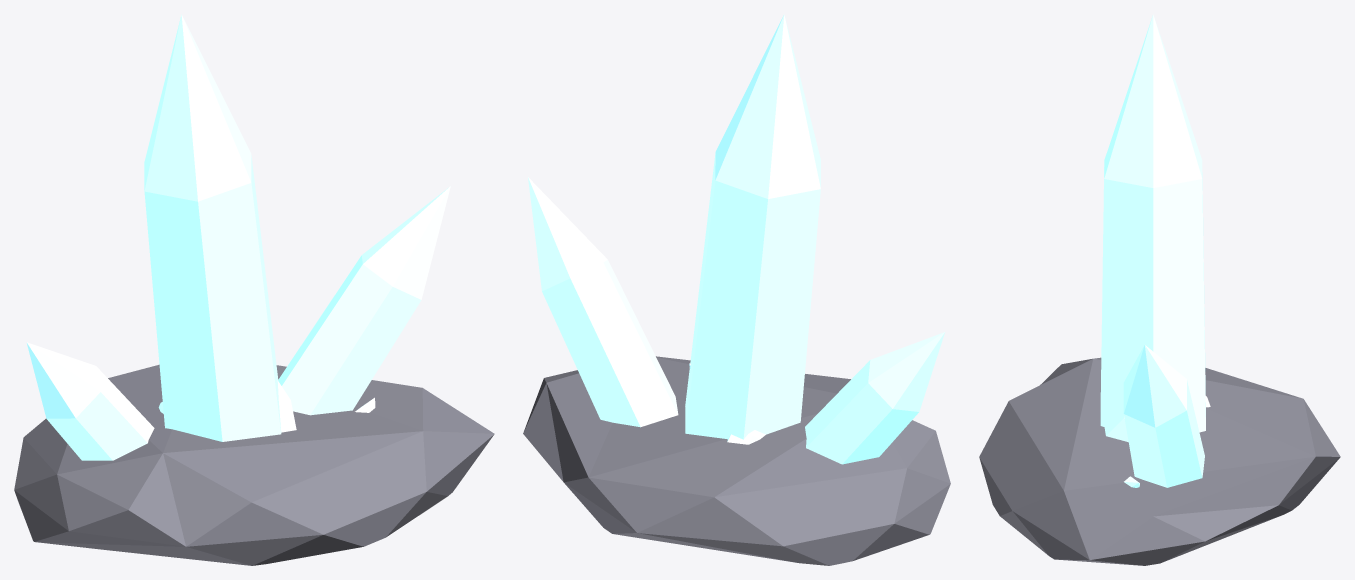
File: crystal_cluster_v2.glb
The picture shows the model from 3 angles, left to right: view 1: azimuth 30°, elevation 25°; view 2: azimuth 150°, elevation 25°; view 3: azimuth 270°, elevation 25°; orthographic projection. The views are drawn at different scales.
Visible parts, largest first — view 1: Crystal_Shards, Crystal_Base; view 2: Crystal_Shards, Crystal_Base; view 3: Crystal_Base, Crystal_Shards.
Boxes of the visible parts, left/top/right/bottom form: Crystal_Shards: left=26, top=14, right=450, bottom=460; Crystal_Base: left=14, top=364, right=494, bottom=565; Crystal_Shards: left=528, top=14, right=944, bottom=464; Crystal_Base: left=523, top=356, right=950, bottom=565; Crystal_Base: left=979, top=357, right=1340, bottom=565; Crystal_Shards: left=1100, top=14, right=1210, bottom=487.
Bounding box in the file's own units: 2.55 × 2.74 × 2.
